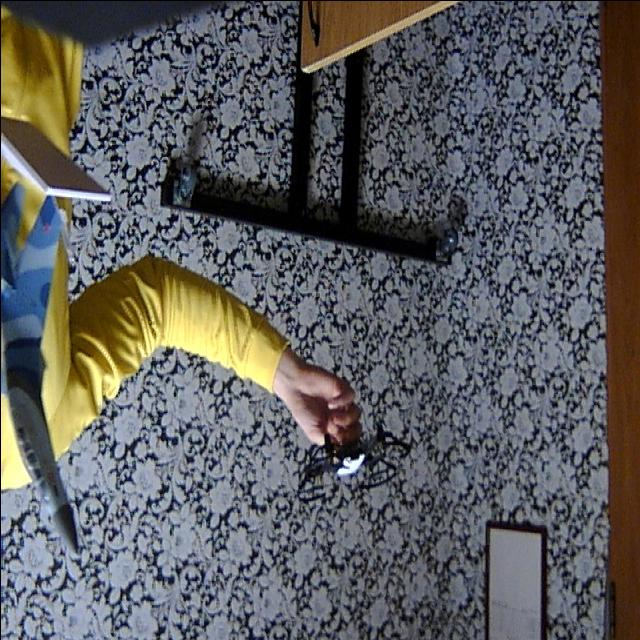drone: (280, 418, 416, 514)
